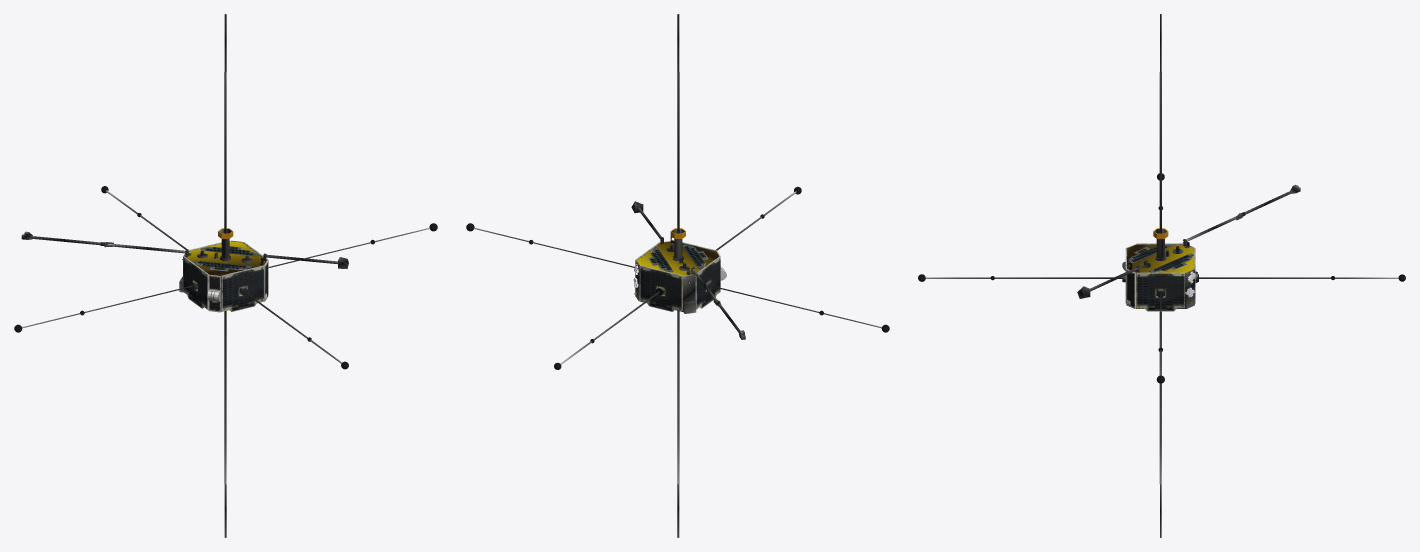
Rendered from themis.glb.
The picture shows the model from 3 angles, left to right: view 1: azimuth 30°, elevation 25°; view 2: azimuth 150°, elevation 25°; view 3: azimuth 270°, elevation 25°; orthographic projection.
Visible parts, largest first — view 1: foil_silver, shiny_panel, foil_gold, tex_01; view 2: foil_silver, shiny_panel, foil_gold; view 3: foil_silver, shiny_panel, foil_gold, tex_01.
Boxes of the visible parts, left/top/right/bottom form: foil_silver: left=14, top=14, right=437, bottom=537; shiny_panel: left=183, top=242, right=268, bottom=311; foil_gold: left=182, top=241, right=266, bottom=311; tex_01: left=207, top=228, right=268, bottom=312; foil_silver: left=466, top=14, right=889, bottom=537; shiny_panel: left=635, top=242, right=720, bottom=311; foil_gold: left=634, top=241, right=719, bottom=311; foil_silver: left=918, top=14, right=1405, bottom=537; shiny_panel: left=1125, top=243, right=1195, bottom=311; foil_gold: left=1127, top=244, right=1194, bottom=308; tex_01: left=1122, top=228, right=1195, bottom=308.
Size of the model in its own units: 6.09 by 7.21 by 6.09.
Materials: 3 (3 with a texture image).
